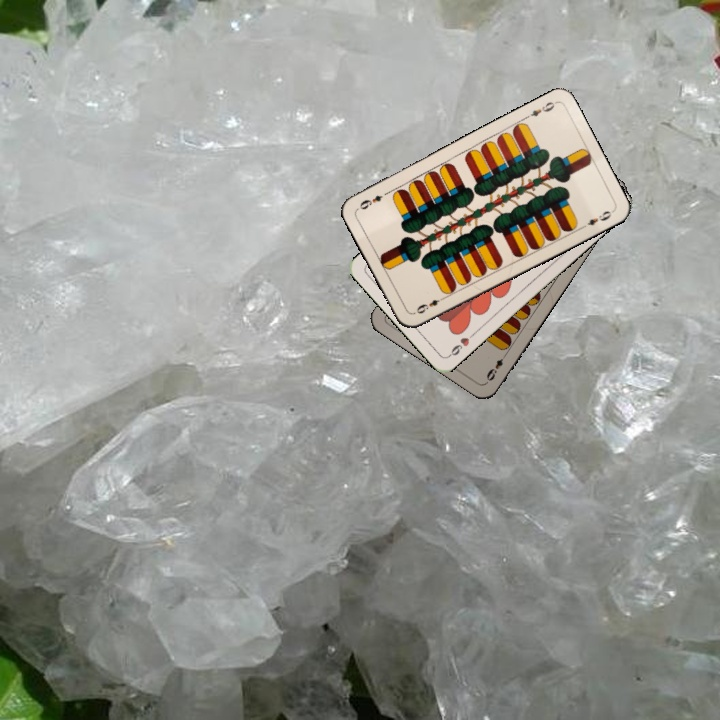E9: (482, 349, 509, 385), (521, 98, 558, 122), (412, 293, 448, 316)
H9: (444, 329, 478, 360)
